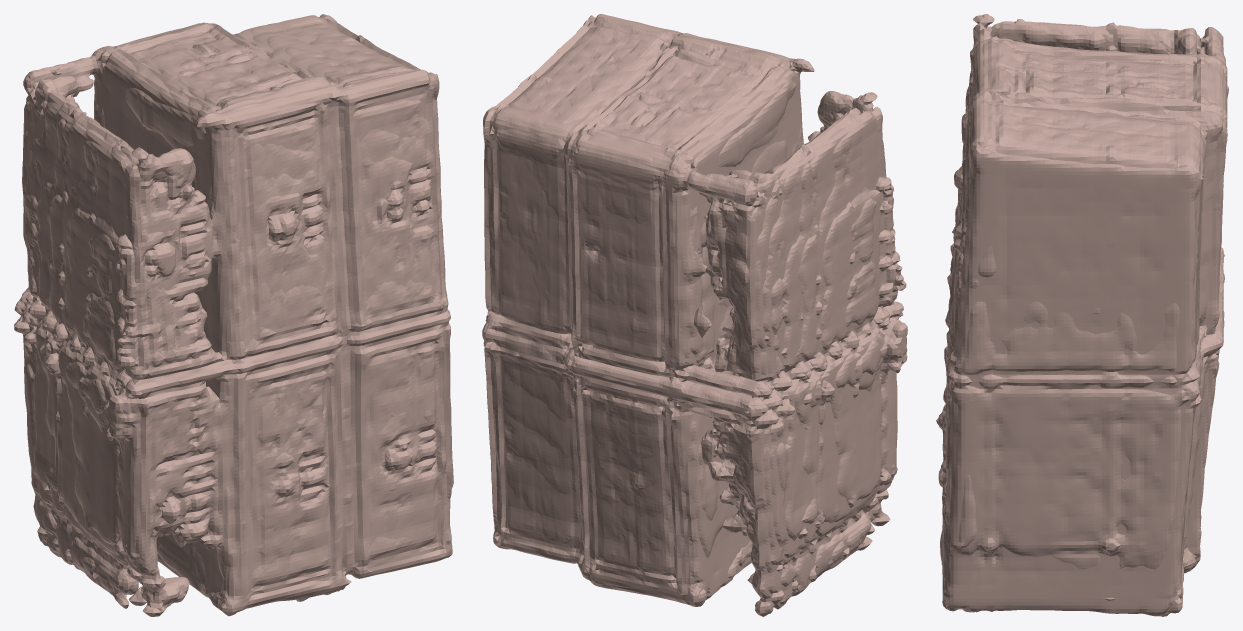
The model's file is raw.glb.
The picture shows the model from 3 angles, left to right: view 1: azimuth 30°, elevation 25°; view 2: azimuth 150°, elevation 25°; view 3: azimuth 270°, elevation 25°; orthographic projection. The views are drawn at different scales.
Parts seen in each view (by area): view 1: world; view 2: world; view 3: world.
Boxes of the visible parts, x1=… form: world: x1=14, y1=14, x2=453, y2=616; world: x1=482, y1=14, x2=907, y2=616; world: x1=936, y1=14, x2=1228, y2=616.
Bounding box in the file's own units: 1.32 × 1.9 × 1.02.
